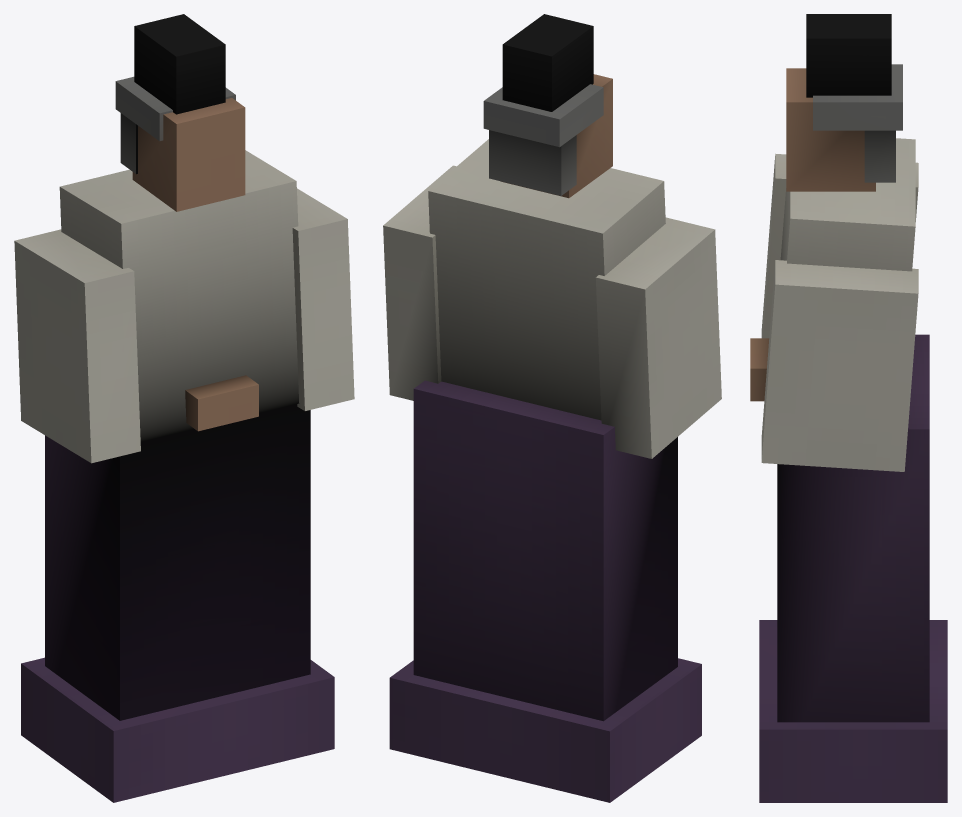
The model's file is keeper.glb.
3 renders of one model, left to right at view 1: azimuth 30°, elevation 25°; view 2: azimuth 150°, elevation 25°; view 3: azimuth 270°, elevation 25°, orthographic. The views are drawn at different scales.
Visible parts, largest first — view 1: keeper; view 2: keeper; view 3: keeper.
Boxes of the visible parts, x1,y1,x2,y2 form: keeper: (14,14,354,802); keeper: (383,14,721,802); keeper: (750,14,947,802).
Size of the model in its own units: 0.69 by 1.78 by 0.44.
5 materials, 5 textured.
